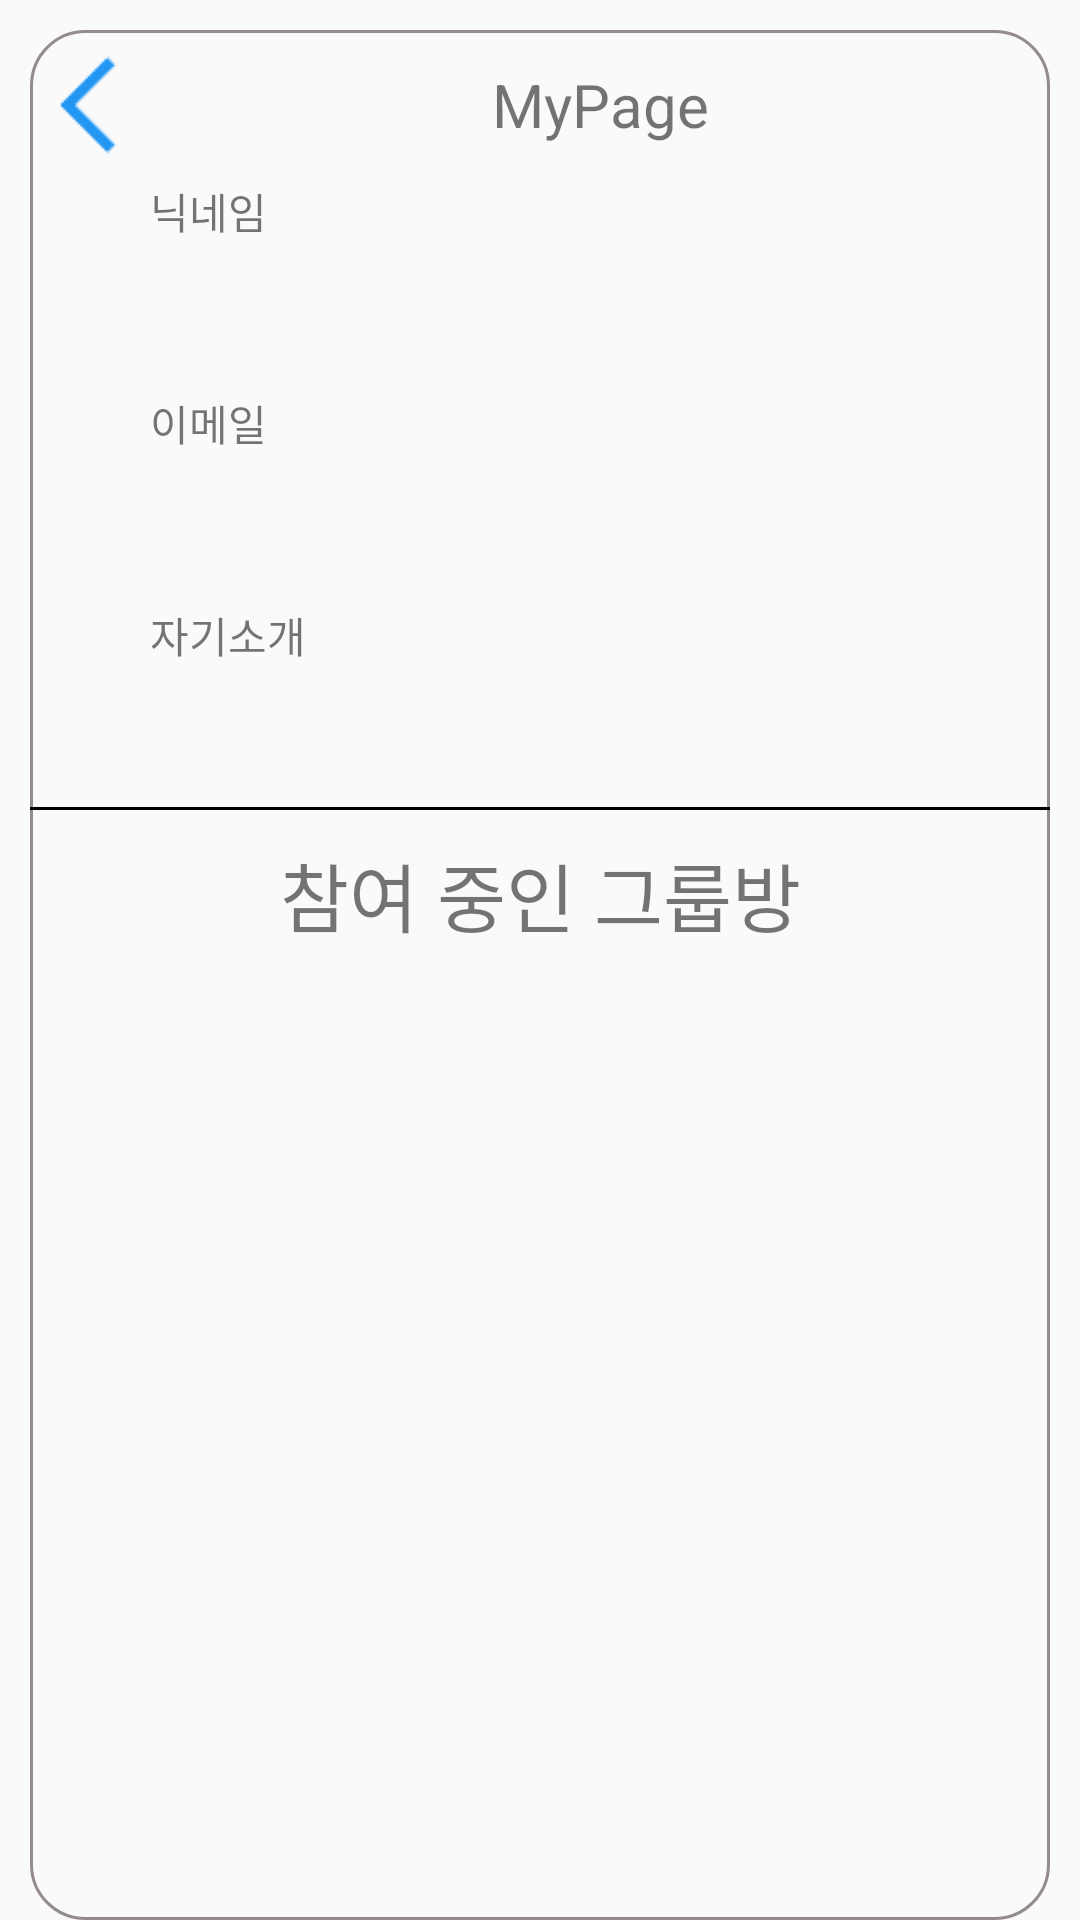

Screen size 1080x1920. Icon name, then its center in pixels as [x,y]:
back: [88,105]
